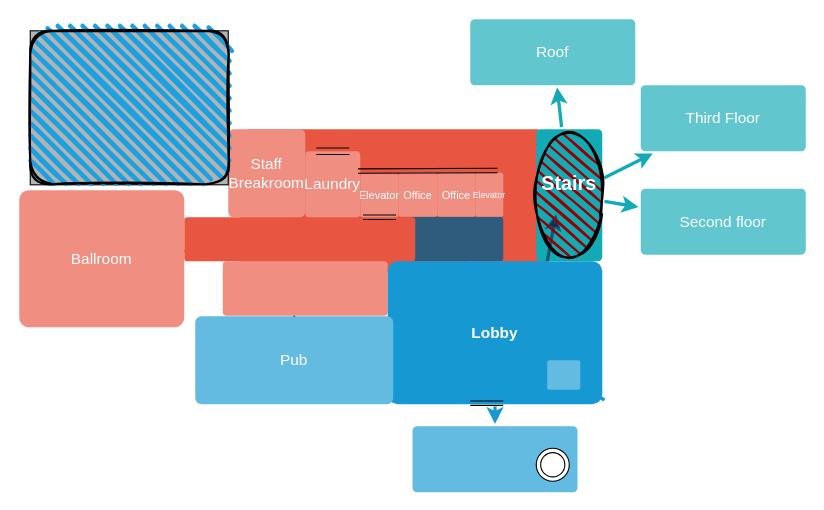
This 824x510 diagram has some shape labels left out. The box of each missing label's shape, as (x1, y1, x2, y2) in pixels:
Courtyard: (412, 426, 577, 492)
Front Desk: (409, 216, 503, 261)
Hallway: (184, 217, 415, 261)
Kitchen: (222, 261, 387, 315)
Parking Lot: (29, 29, 229, 185)
Piano: (547, 360, 580, 389)
